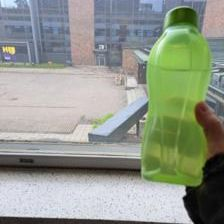bottle: (137, 4, 212, 191)
